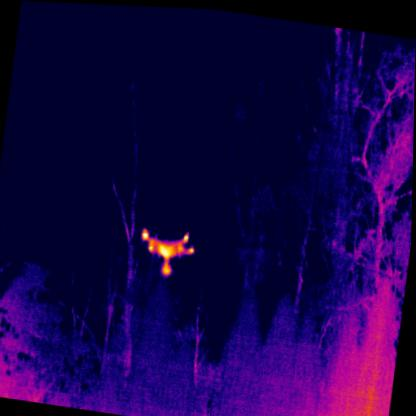drone: (137, 224, 196, 275)
